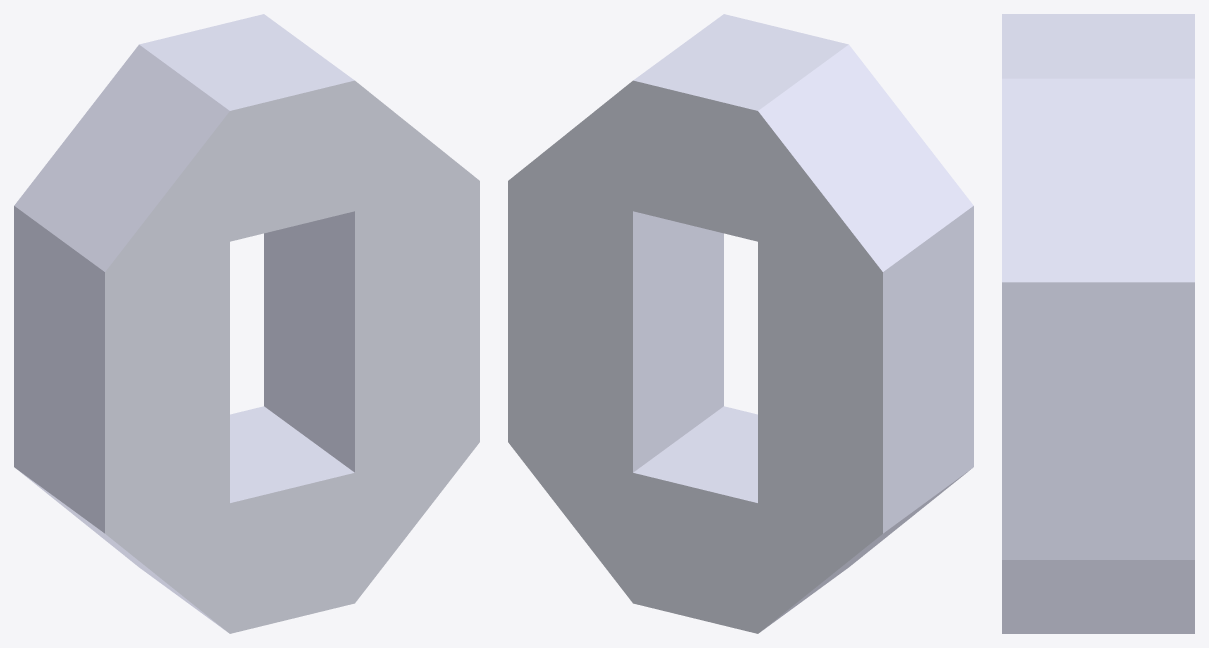
File: O_DeltaBlock_Grey.glb
3 renders of one model, left to right at view 1: azimuth 30°, elevation 25°; view 2: azimuth 150°, elevation 25°; view 3: azimuth 270°, elevation 25°, orthographic. The views are drawn at different scales.
Visible parts, largest first — view 1: o_DeltaBlock_Grey; view 2: o_DeltaBlock_Grey; view 3: o_DeltaBlock_Grey.
Boxes of the visible parts, x1,y1,x2,y2 form: o_DeltaBlock_Grey: (14,14,479,633); o_DeltaBlock_Grey: (508,14,973,633); o_DeltaBlock_Grey: (1002,14,1194,633).
Size of what is drawn, in the model's own units: 0.1071 by 0.1429 by 0.045.
Materials: 2 (2 with a texture image).
